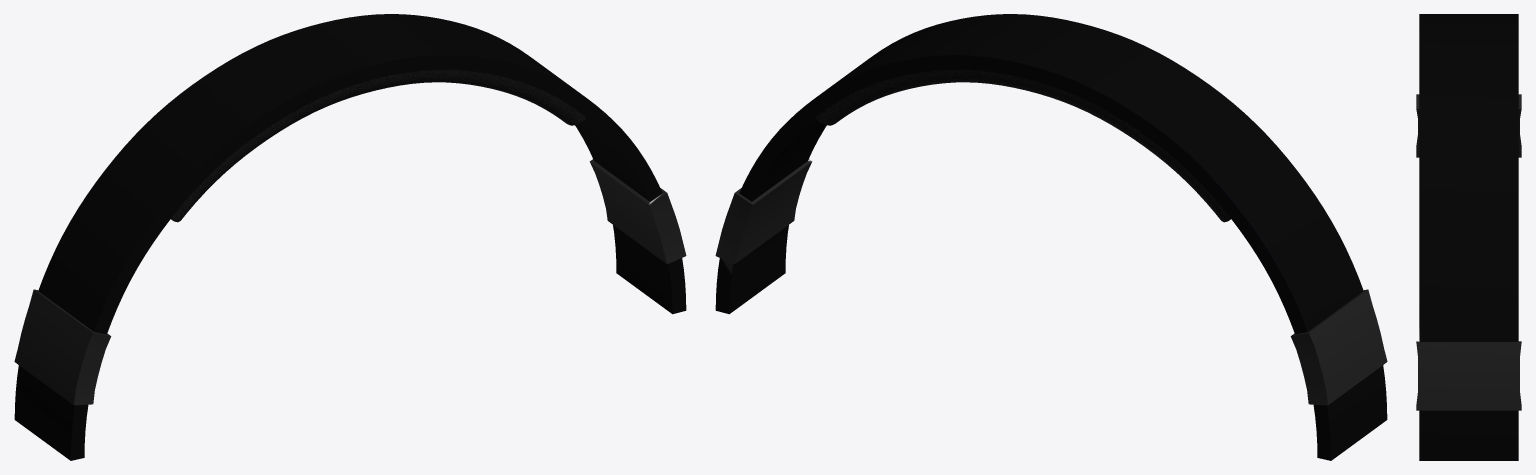
The model's file is headband.obj.
3 renders of one model, left to right at view 1: azimuth 30°, elevation 25°; view 2: azimuth 150°, elevation 25°; view 3: azimuth 270°, elevation 25°, orthographic. The views are drawn at different scales.
Visible parts, largest first — view 1: headband; view 2: headband; view 3: headband.
Part boxes in pixels (bbox=[...]): headband: bbox=[14, 14, 686, 460]; headband: bbox=[715, 14, 1387, 460]; headband: bbox=[1416, 14, 1521, 460].
Size of the model in its own units: 0.4075 by 0.2038 by 0.0682.
1 material, 1 textured.
